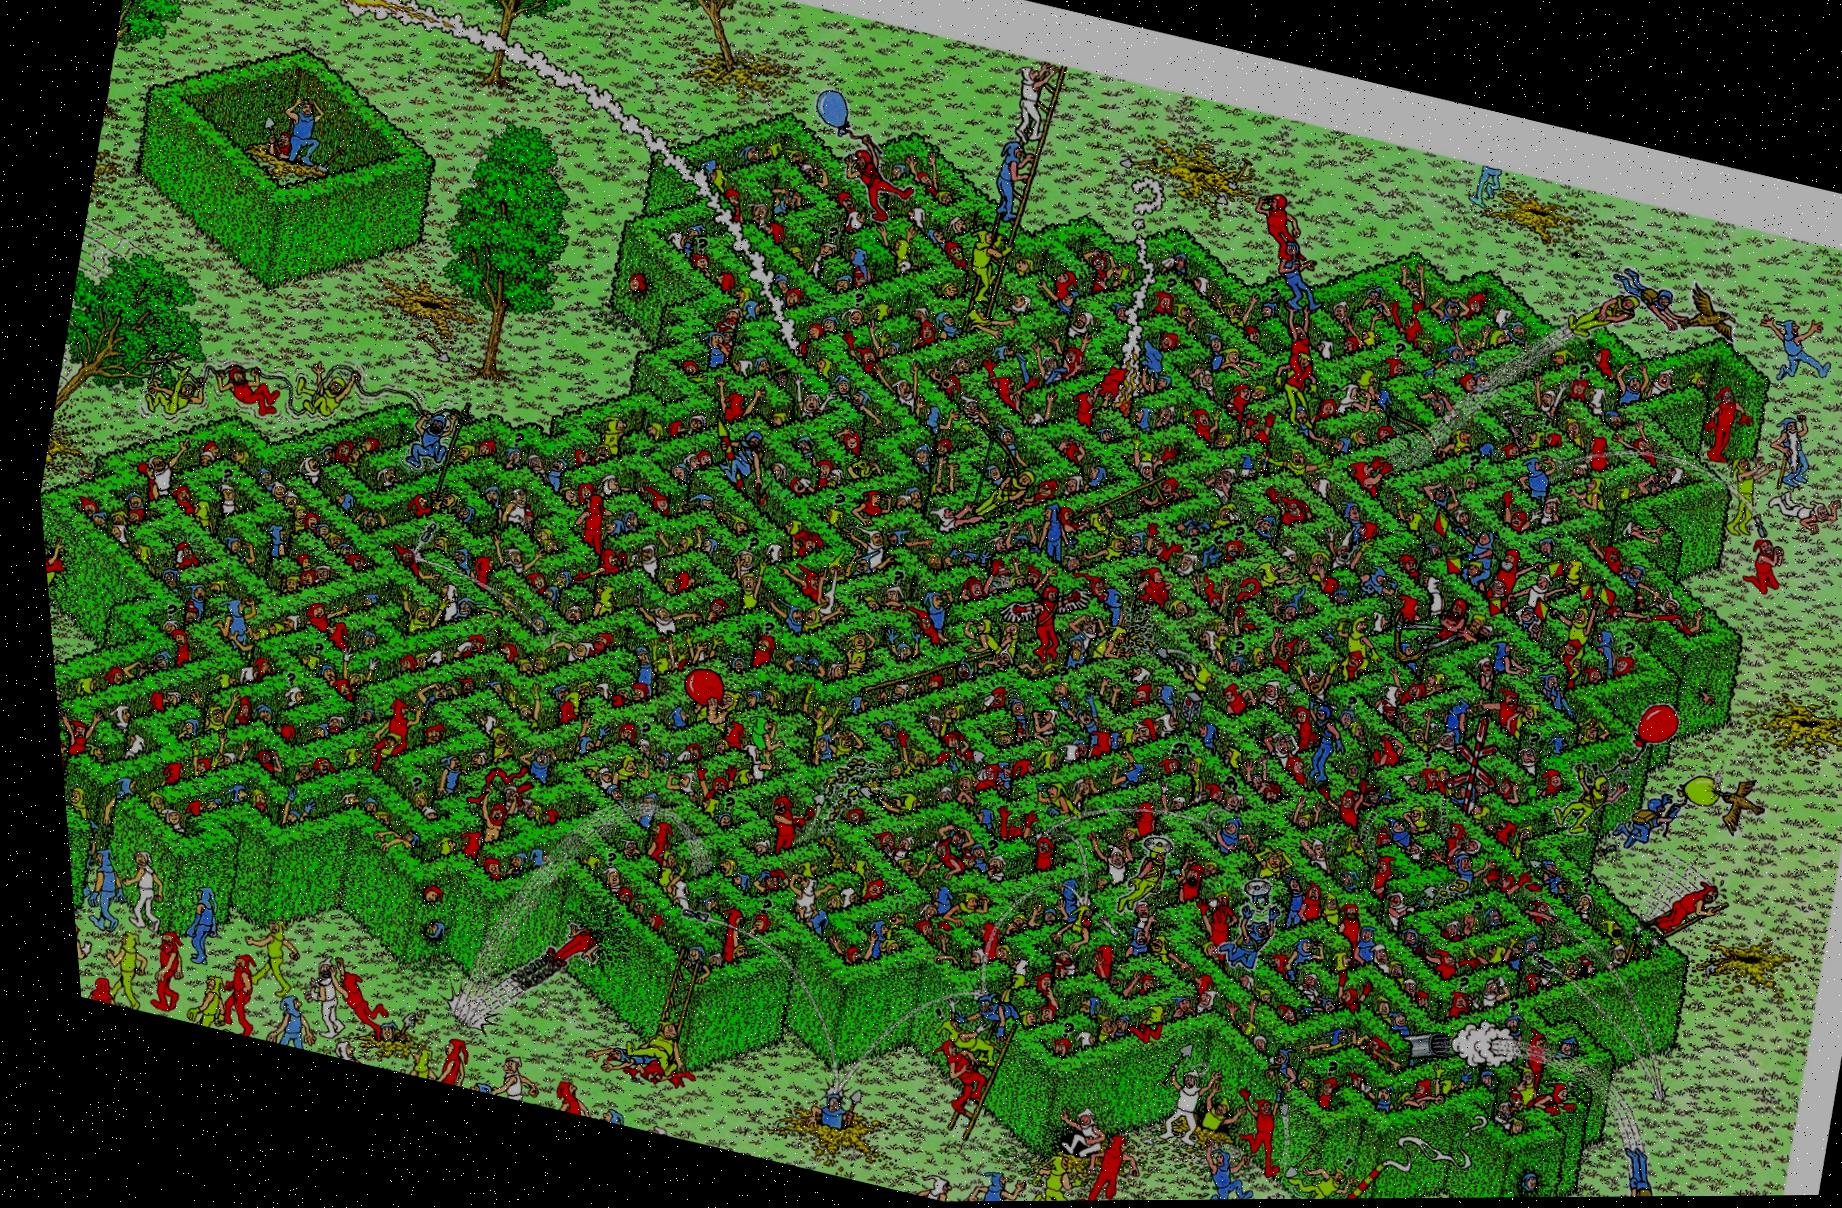waldo: (982, 566, 1005, 592)
